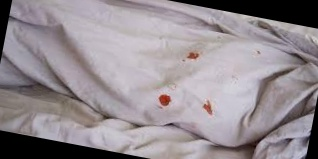blood: (157, 92, 172, 108), (202, 101, 216, 115), (188, 52, 198, 61)
